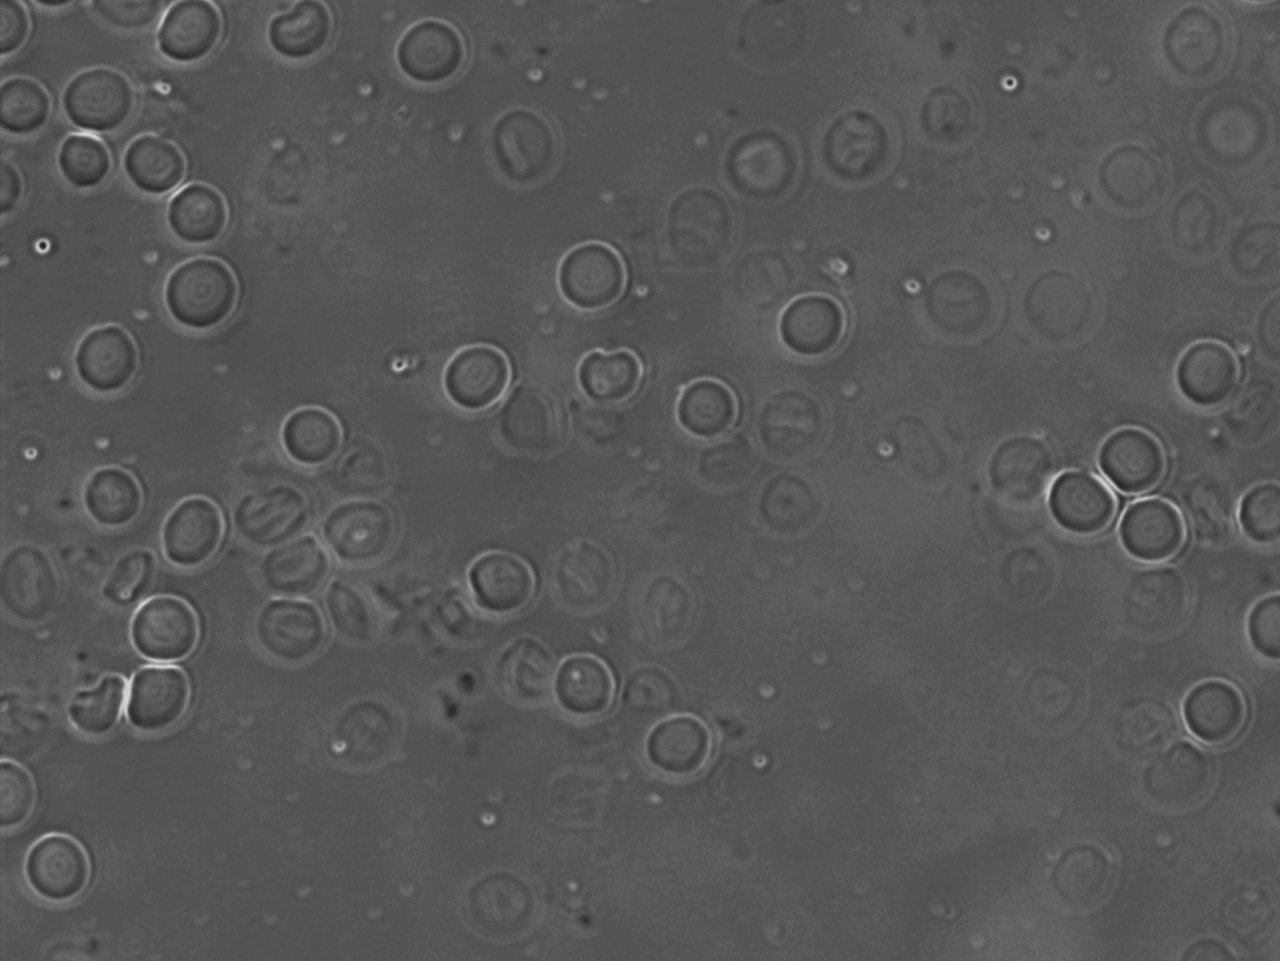depth:0: (547, 232, 646, 329), (1166, 325, 1257, 425), (153, 245, 250, 338), (1082, 416, 1176, 507), (116, 653, 206, 748), (1110, 486, 1202, 576), (1038, 455, 1126, 548), (460, 538, 550, 626), (670, 351, 753, 446), (1168, 669, 1253, 759), (67, 320, 152, 407), (436, 331, 519, 420), (270, 395, 359, 476), (391, 12, 476, 97), (148, 489, 235, 572), (120, 586, 209, 668), (768, 286, 856, 367), (551, 639, 632, 728), (566, 335, 655, 415), (13, 826, 98, 906), (57, 67, 143, 141), (153, 178, 239, 251), (115, 128, 199, 202), (75, 455, 151, 535), (47, 125, 126, 197), (1231, 470, 1280, 556), (1235, 580, 1280, 665)
